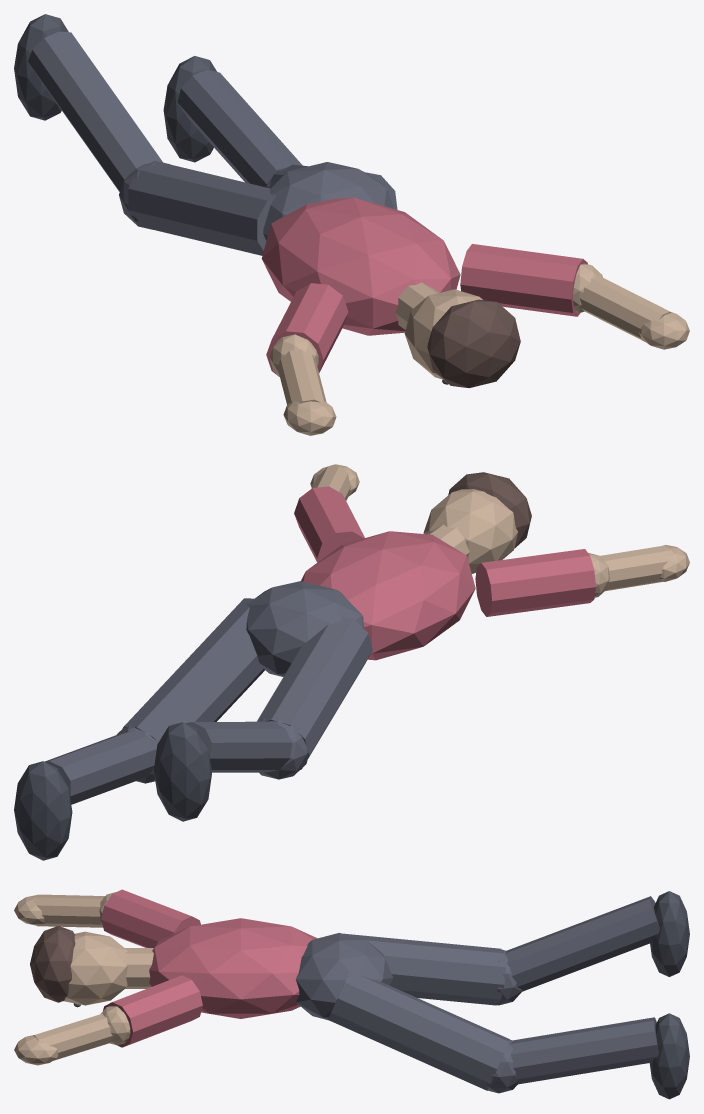
3 views of the same model, one above another, from view 1: azimuth 30°, elevation 25°; view 2: azimuth 150°, elevation 25°; view 3: azimuth 270°, elevation 25° (orthographic). The views are drawn at different scales.
Visible parts, largest first — view 1: world; view 2: world; view 3: world.
Boxes of the visible parts, x1,y1,x2,y2 form: world: (14,14,689,435); world: (14,464,689,860); world: (14,889,689,1099).
Bounding box in the file's own units: 1.17 × 0.52 × 2.13.
